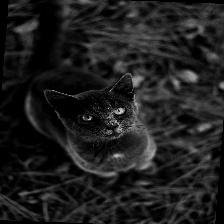kedo: (44, 74, 152, 174)
